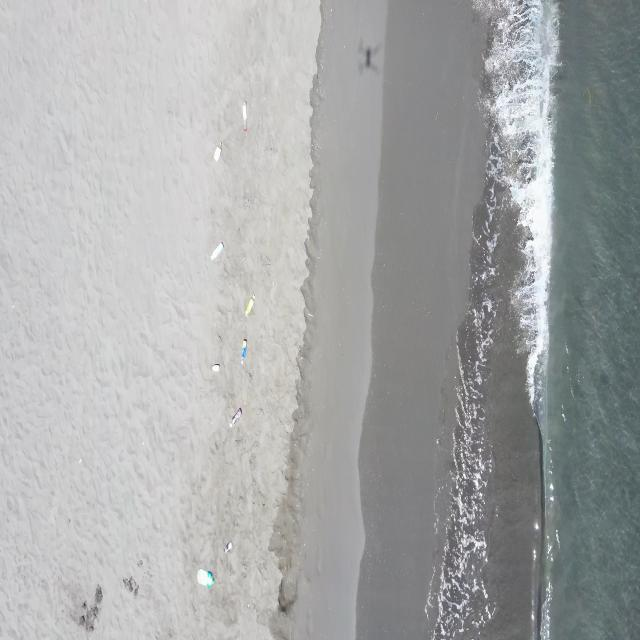plastic-bottle: (196, 568, 215, 588), (208, 241, 226, 262), (229, 407, 243, 428), (246, 293, 256, 317), (241, 100, 248, 133), (240, 339, 249, 364), (222, 541, 234, 556), (214, 143, 223, 161), (211, 362, 220, 373)
